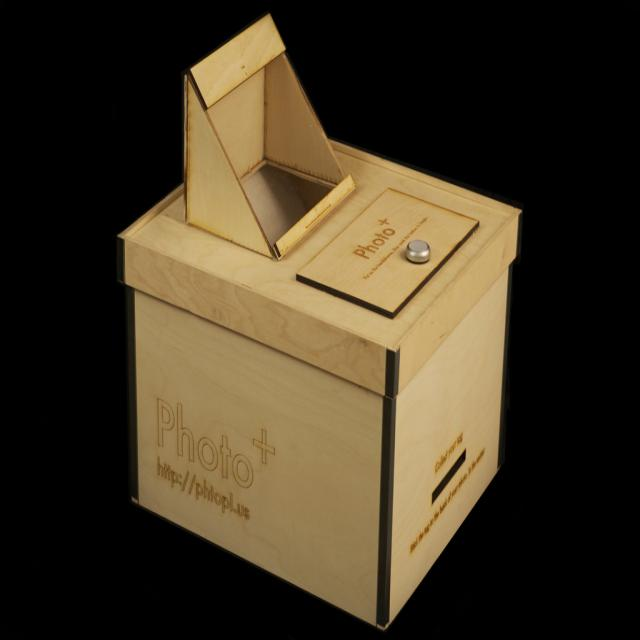Box: (116, 10, 524, 633)
